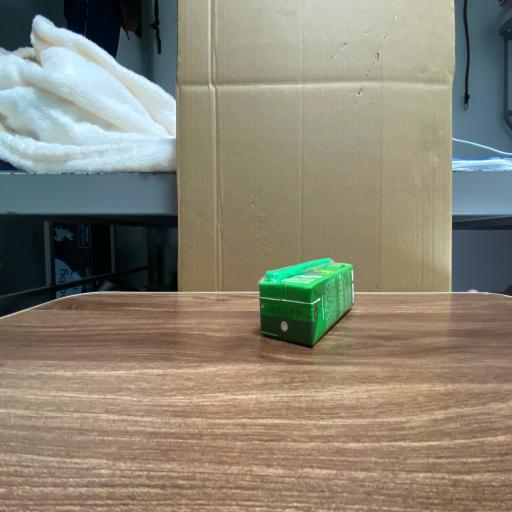milo: (258, 259, 352, 346)
